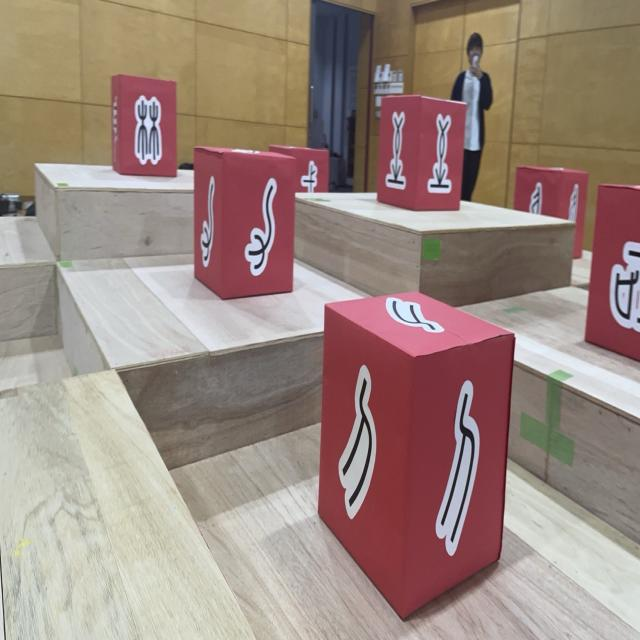10: (435, 378, 480, 556), (338, 363, 377, 521), (385, 296, 445, 334)
11: (567, 182, 579, 222), (528, 181, 542, 214)
13: (244, 177, 276, 277), (200, 175, 216, 268)
2: (134, 94, 163, 167)
5: (609, 240, 640, 334)
7: (427, 113, 453, 195), (386, 109, 406, 190)
9: (301, 158, 318, 193)
fighter: (317, 290, 517, 620), (194, 146, 296, 300), (377, 94, 468, 212), (585, 183, 640, 362), (111, 74, 178, 178), (514, 165, 588, 259), (271, 144, 329, 191)
